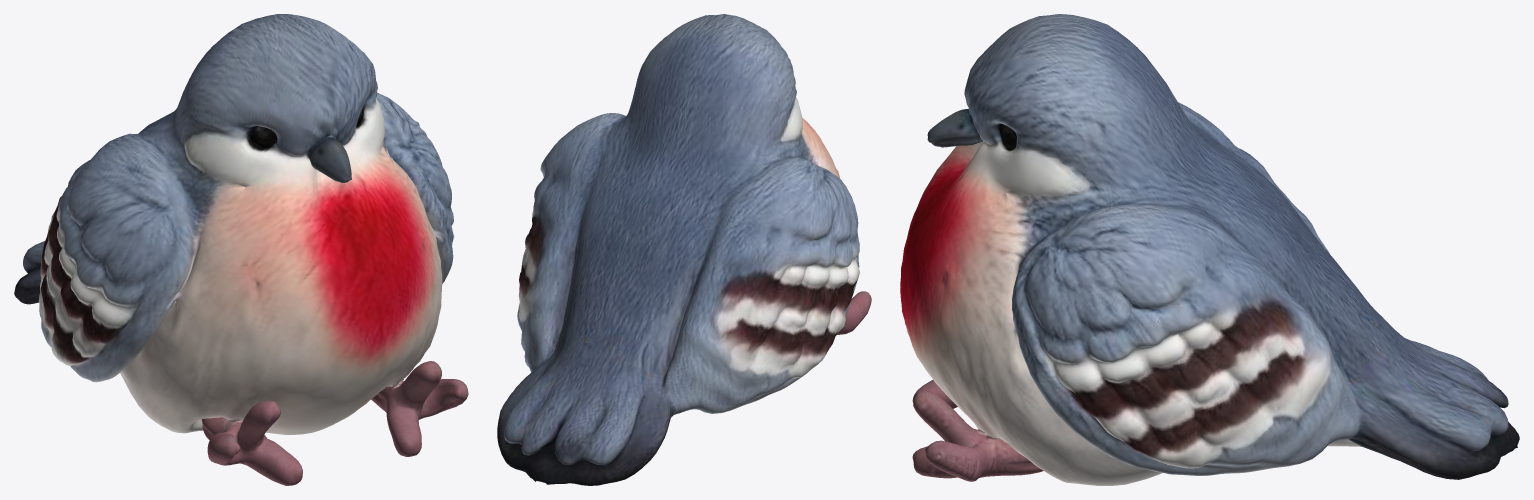
The model's file is buckle.glb.
3 renders of one model, left to right at view 1: azimuth 30°, elevation 25°; view 2: azimuth 150°, elevation 25°; view 3: azimuth 270°, elevation 25°, orthographic. The views are drawn at different scales.
Visible parts, largest first — view 1: buckle; view 2: buckle; view 3: buckle.
Part boxes in pixels (x1,y1,x2,y2): buckle: (14, 14, 468, 485); buckle: (497, 14, 871, 485); buckle: (900, 14, 1519, 485).
Size of the model in its own units: 0.6342 by 0.6747 by 0.9.
Materials: 1 (1 with a texture image).
